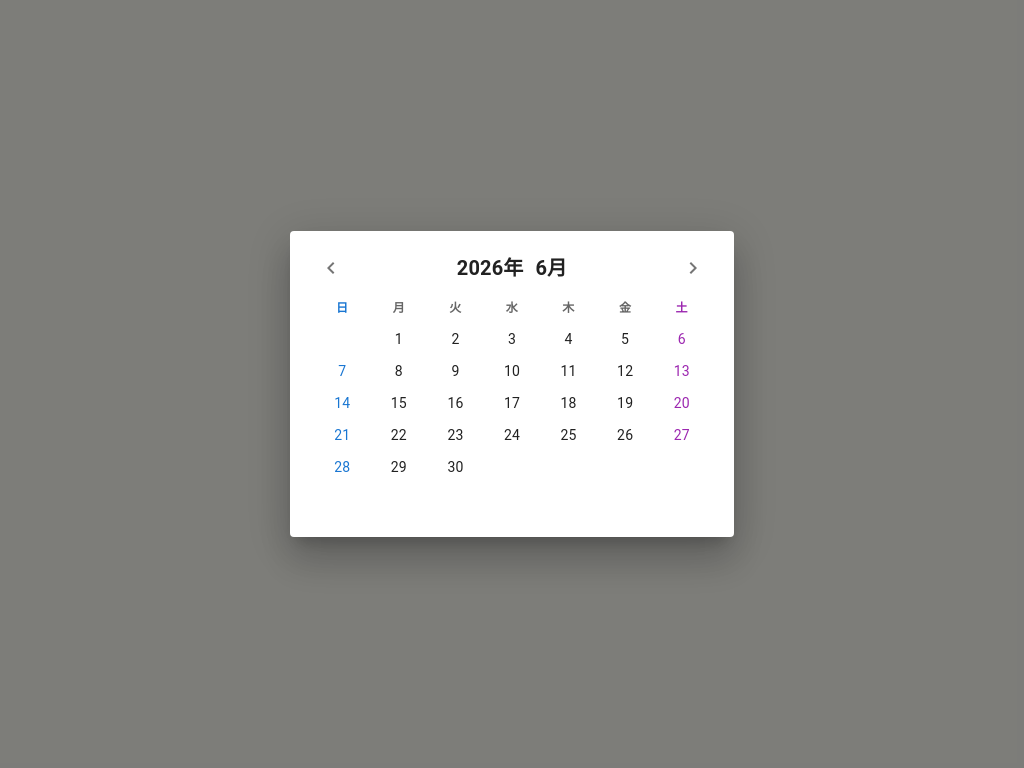
Scenario: 年・月ピッカー › 月ピッカーで月を選ぶと月が変わりピッカーが閉じる
The width and height of the screenshot is (1024, 768).
Step 1. Click the heading "6月" → (551, 268), box 535,256 -> 567,280
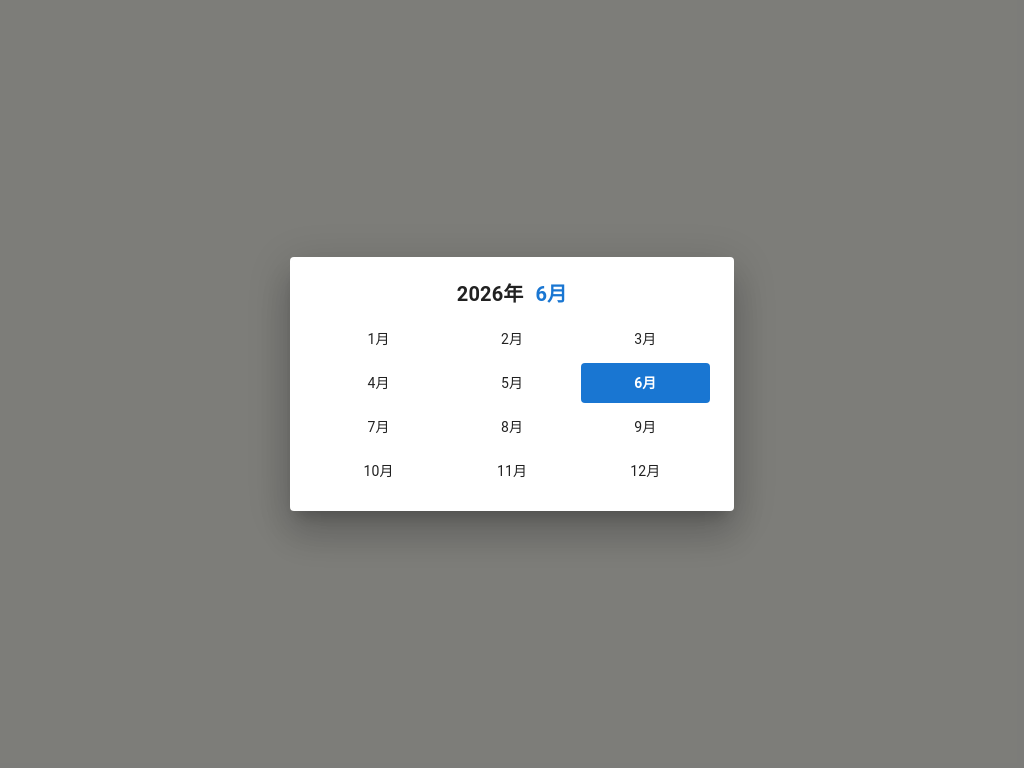
Step 2. Click the text "3月" → (645, 339), box 634,329 -> 656,349
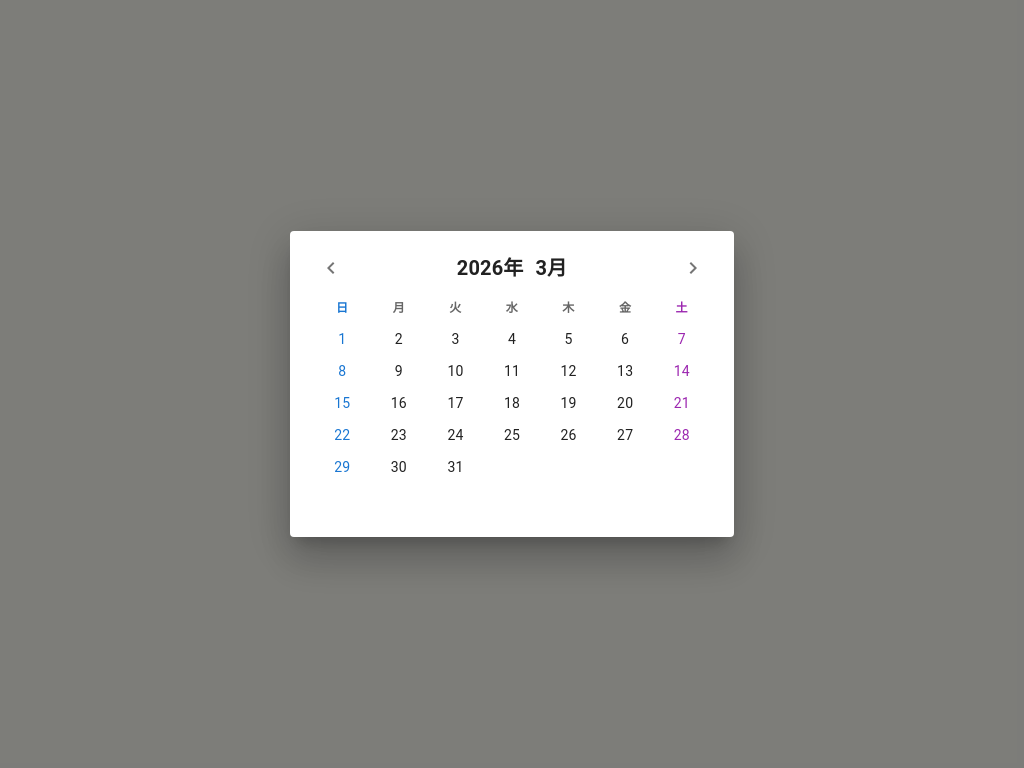
Check: the number of headings "3月" is 1, box 535,256 -> 567,280
Check: the heading "3月" is shown, box 535,256 -> 567,280
